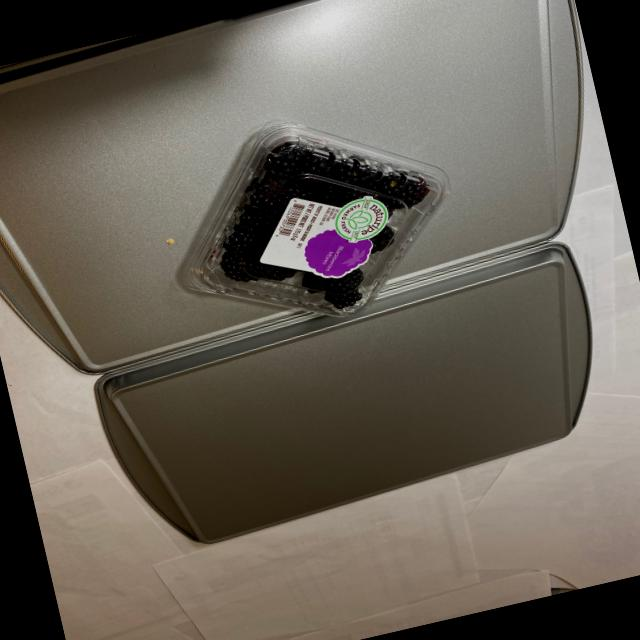blackberries: (176, 113, 451, 351)
